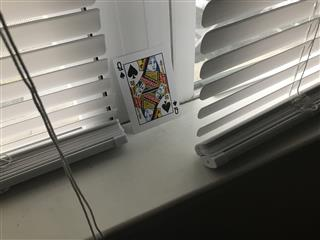QueenOfSpades: (111, 43, 184, 134)
